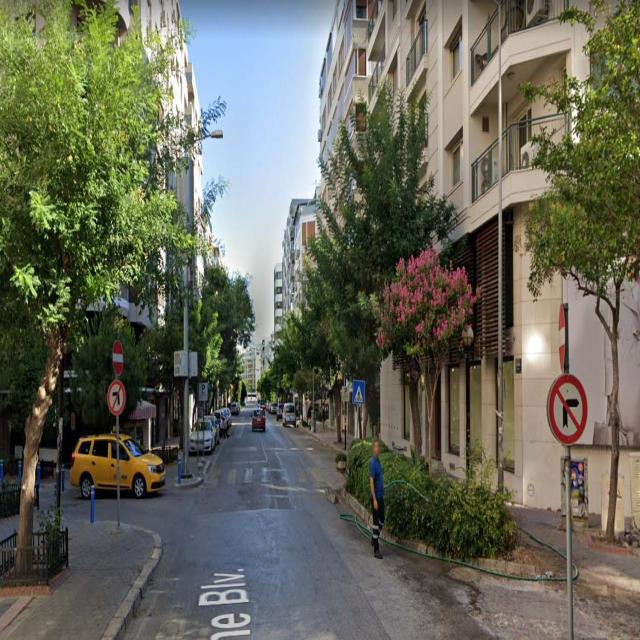girisyok: (558, 302, 568, 368), (111, 341, 123, 378)
sagadonulmez: (550, 375, 584, 441)
soladonulmez: (108, 379, 125, 413)
